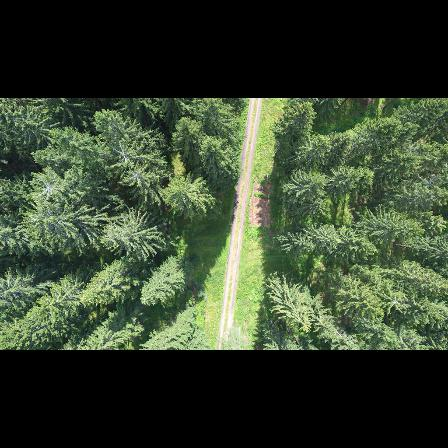Sick: (107, 140, 137, 174), (35, 174, 64, 204), (122, 162, 149, 191)
